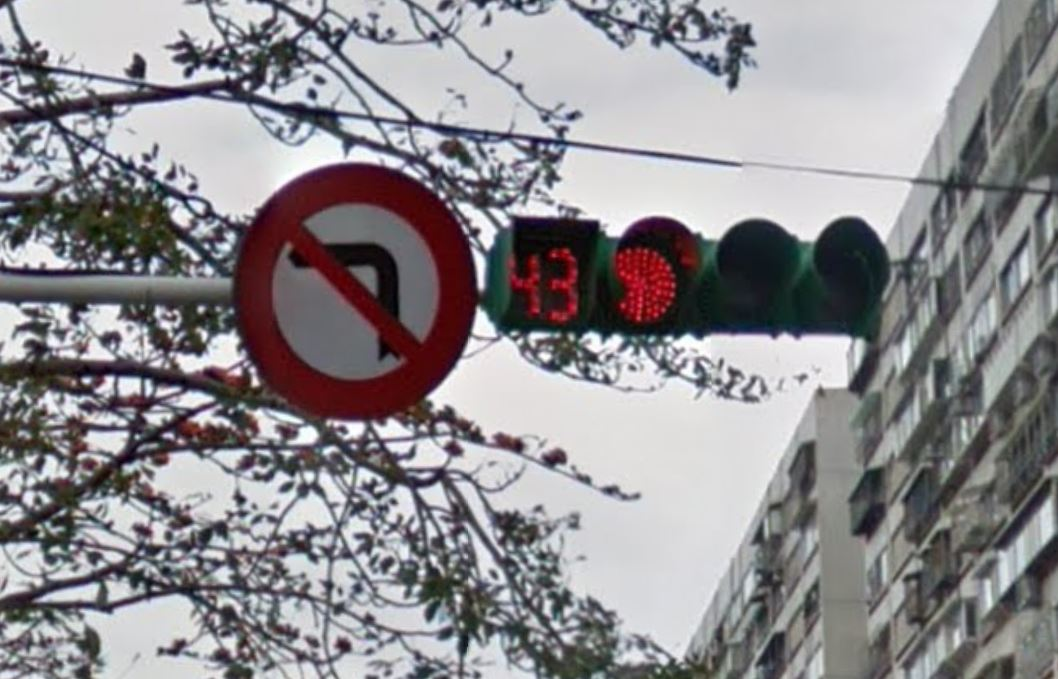No_left_turn: (231, 163, 478, 418)
Traffic_light_red: (491, 217, 891, 328)
